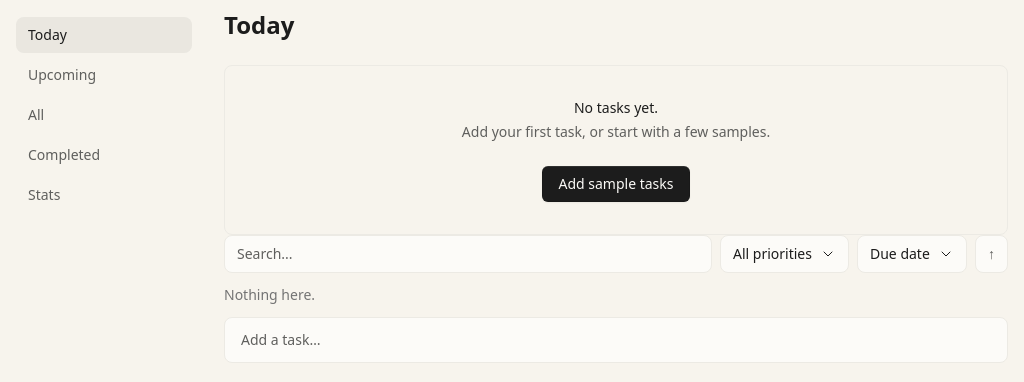
Test: Task CRUD › add a task → appears in the All list
Navigate to All view (Sidebar always renders)
Click the button "All": (104, 115) [16,97,192,133]
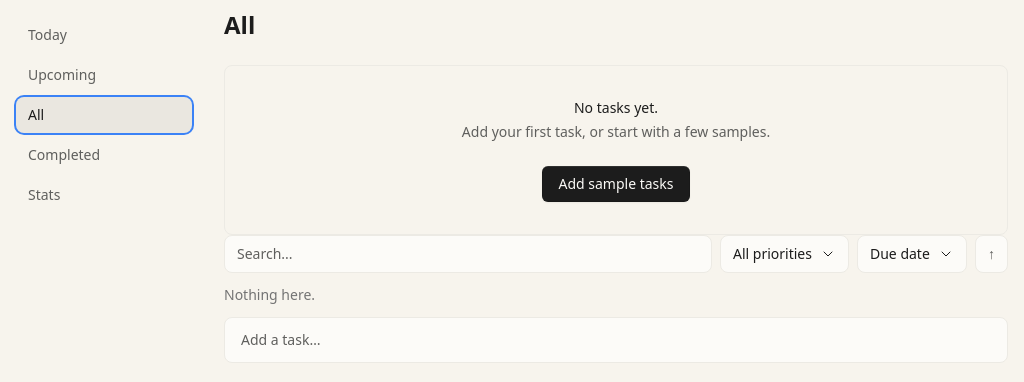
Wait for TaskListContainer to hydrate
In the field named "New task": (616, 340) [224,317,1008,363], type "My new task"
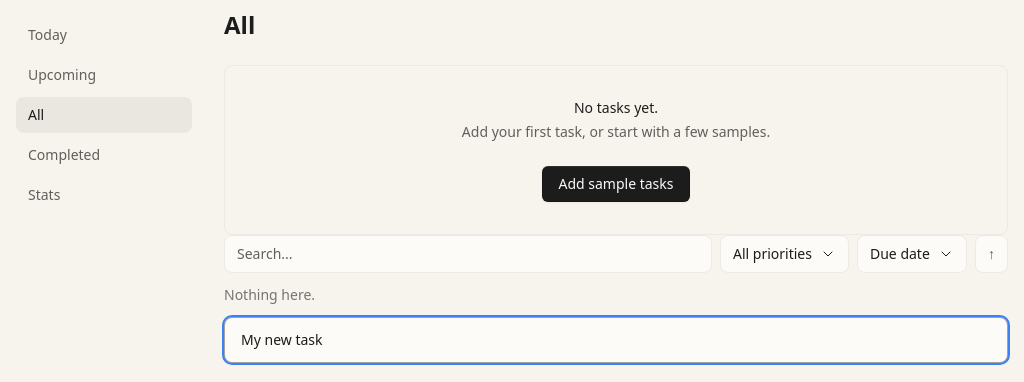
Press Enter
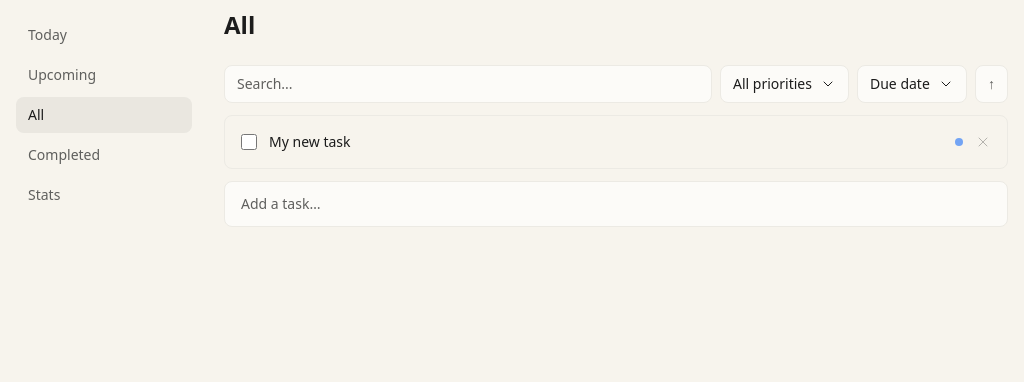
Now the button "My new task" is shown, box [269,132,943,152]
